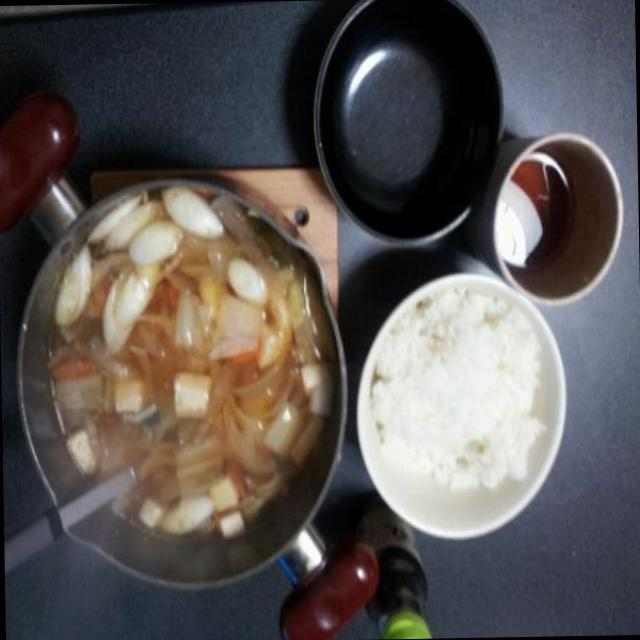Rice: (375, 290, 540, 500)
